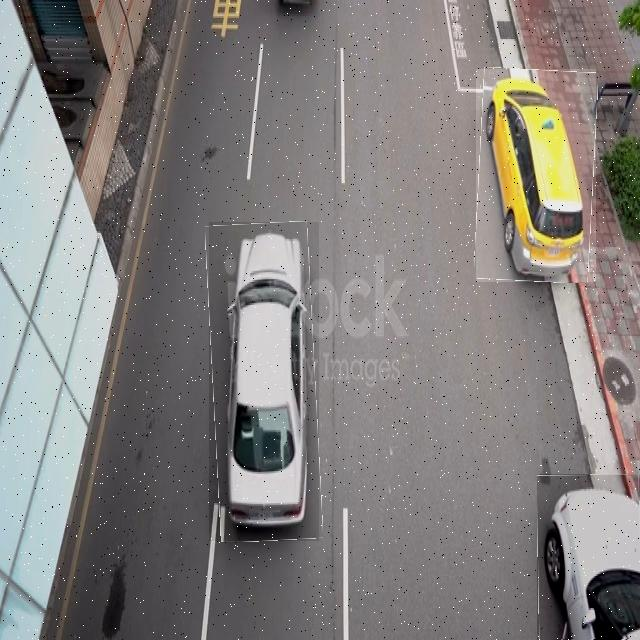Car: (209, 222, 319, 541), (476, 69, 596, 282), (537, 474, 640, 640)
